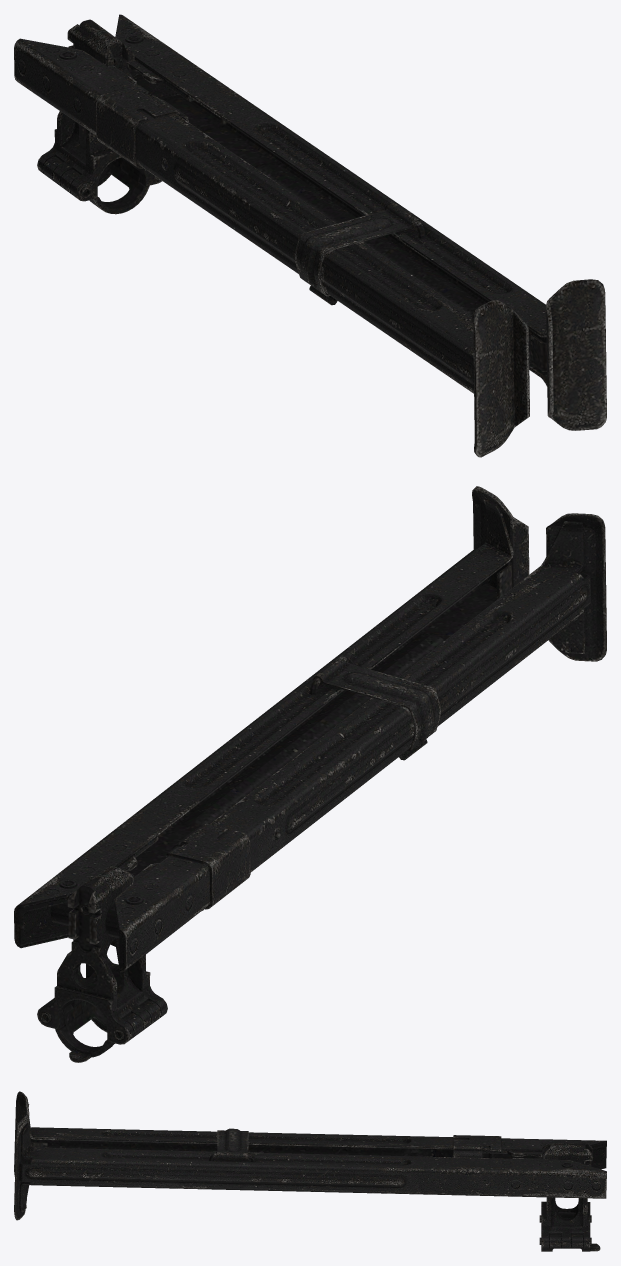
3 views of the same model, one above another, from view 1: azimuth 30°, elevation 25°; view 2: azimuth 150°, elevation 25°; view 3: azimuth 270°, elevation 25° (orthographic). The views are drawn at different scales.
Parts seen in each view (by area): view 1: TW_6464d870bb2c580352070cc4_PZ_Import; view 2: TW_6464d870bb2c580352070cc4_PZ_Import; view 3: TW_6464d870bb2c580352070cc4_PZ_Import.
Part boxes in pixels (x1,y1,x2,y2): TW_6464d870bb2c580352070cc4_PZ_Import: (14, 14, 606, 457); TW_6464d870bb2c580352070cc4_PZ_Import: (14, 486, 606, 1062); TW_6464d870bb2c580352070cc4_PZ_Import: (14, 1091, 606, 1251).
Size of the model in its own units: 0.0283 by 0.1763 by 0.0461.
Materials: 1 (1 with a texture image).
